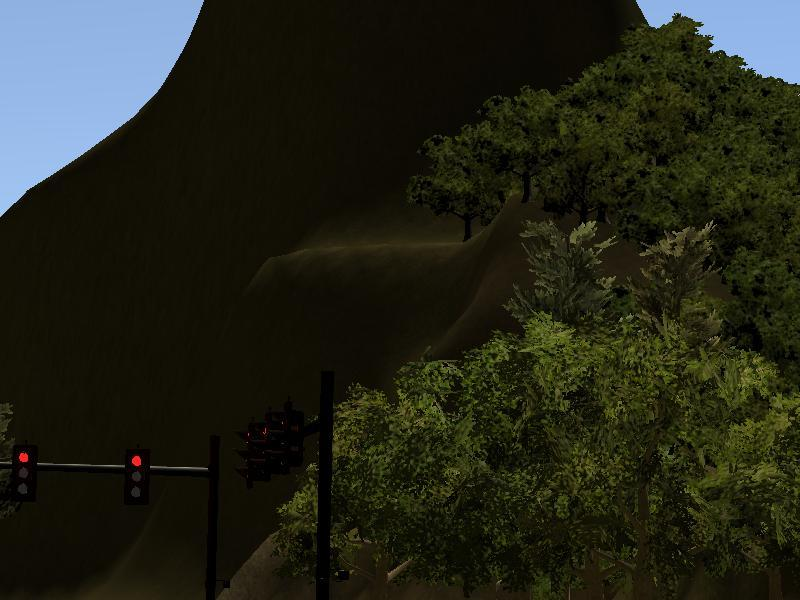Red: (124, 450, 151, 504), (15, 448, 36, 502)
